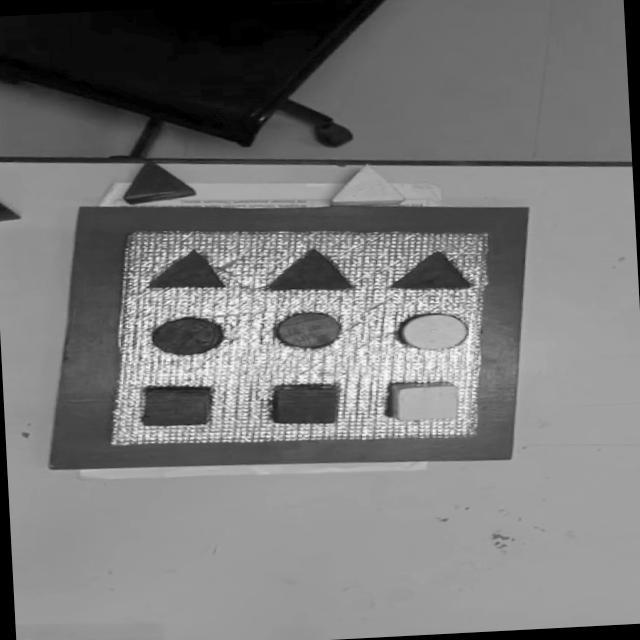bcircle: (148, 315, 226, 358)
bcube: (138, 382, 218, 428)
btriangle: (0, 196, 21, 223)
mttriangle: (262, 246, 356, 294), (143, 247, 230, 294), (387, 248, 475, 293)
rcircle: (270, 308, 346, 352)
rcube: (271, 382, 343, 426)
rtriangle: (120, 158, 196, 206)
wb: (101, 214, 501, 456)
ycircle: (398, 311, 469, 352)
ycube: (391, 382, 461, 424)
ytriangle: (329, 162, 406, 208)
